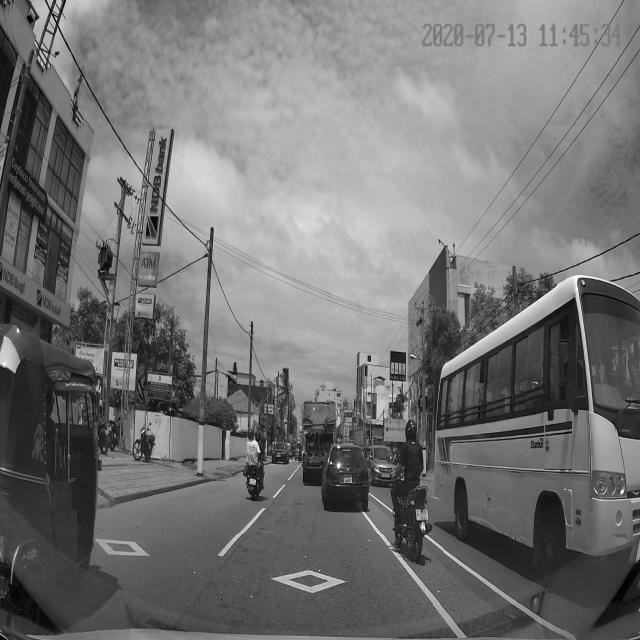diamond: (185, 534, 443, 604)
